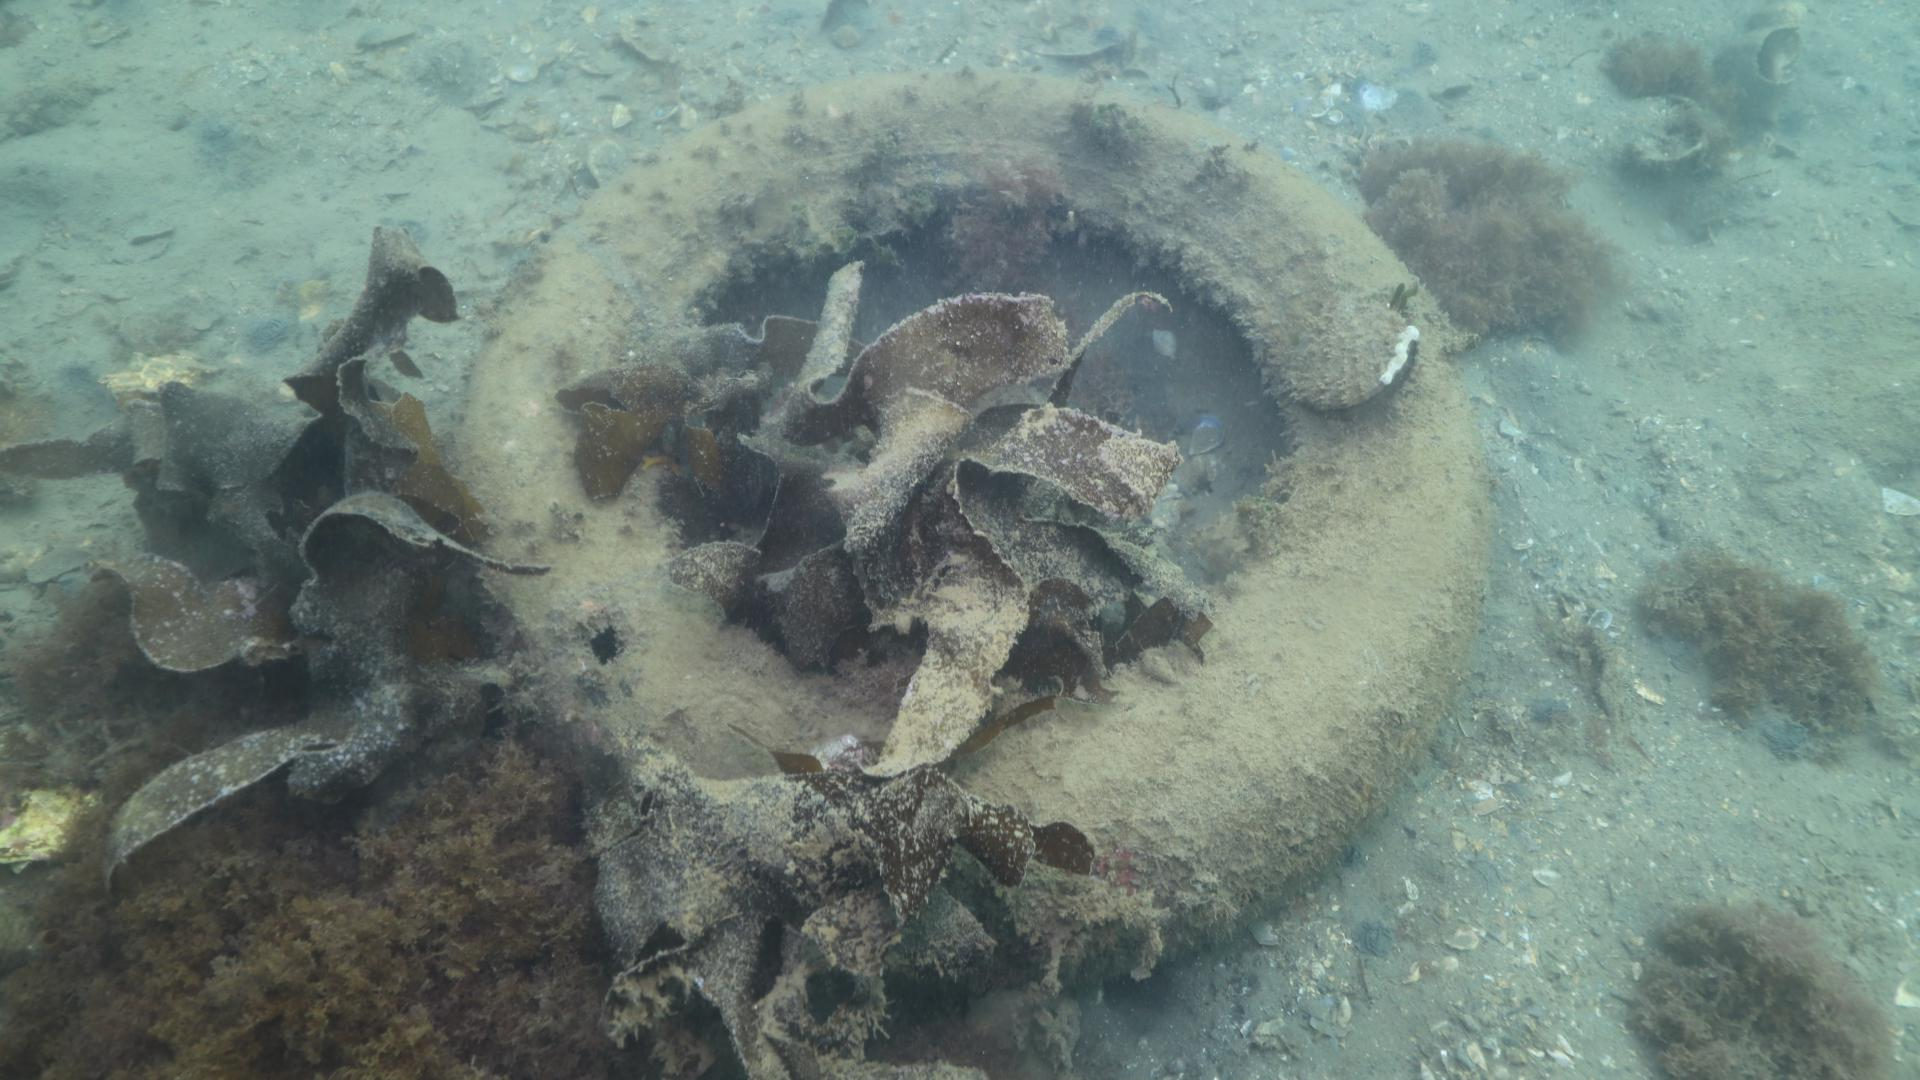tire: (448, 66, 1499, 964)
